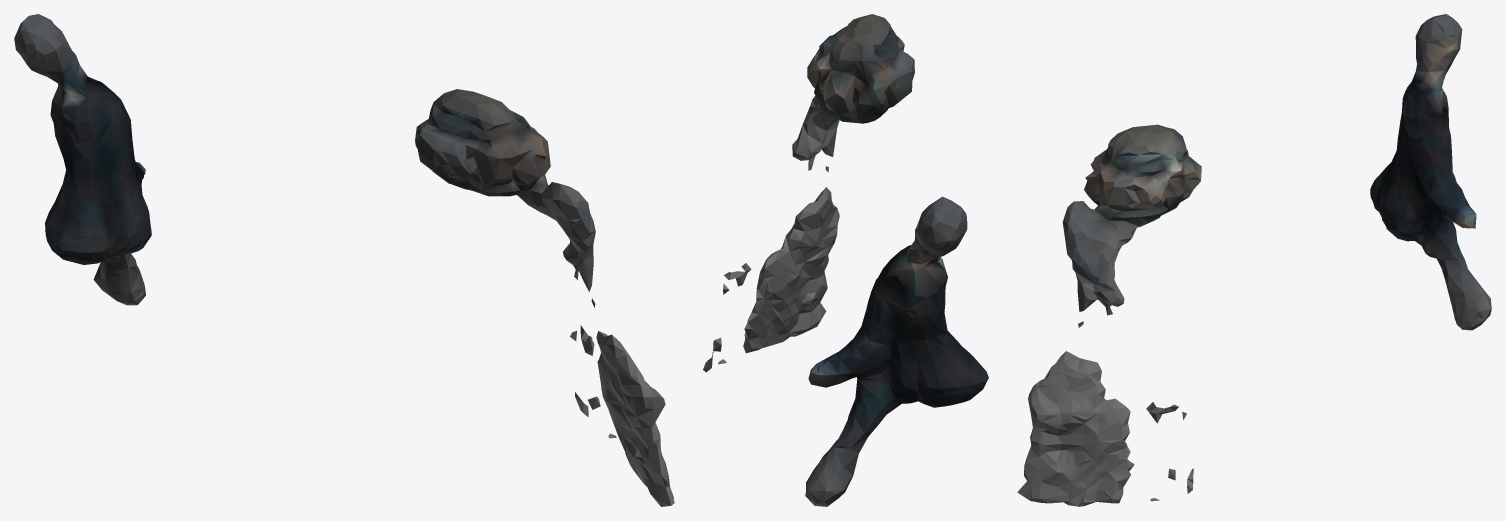
File: the_beatles_abbey_road.obj
3 views of the same model, side by side, from view 1: azimuth 30°, elevation 25°; view 2: azimuth 150°, elevation 25°; view 3: azimuth 270°, elevation 25° (orthographic). The views are drawn at different scales.
Parts seen in each view (by area): view 1: ia; view 2: ia; view 3: ia.
Boxes of the visible parts, box(x1,y1,x2,y2) form: ia: box(14, 14, 674, 506); ia: box(703, 14, 988, 506); ia: box(1017, 14, 1491, 506).
Bounding box in the file's own units: 0.5107 × 0.463 × 0.6.
